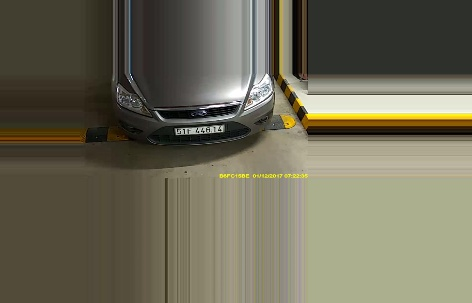plate: (173, 124, 227, 136)
